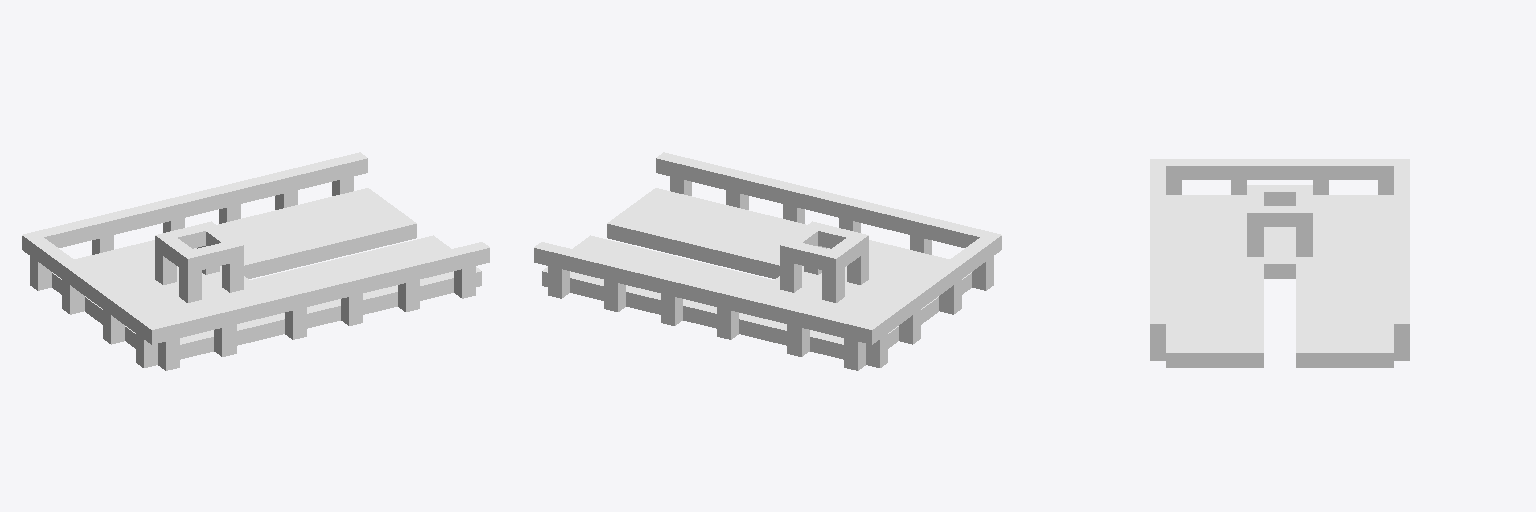
Rendered from roadEnd2.obj.
The picture shows the model from 3 angles: view 1: azimuth 30°, elevation 25°; view 2: azimuth 150°, elevation 25°; view 3: azimuth 270°, elevation 25°; orthographic projection.
Visible parts, largest first — view 1: object 1; view 2: object 1; view 3: object 1.
Part boxes in pixels (x1,y1,x2,y2): object 1: (22,152,489,370); object 1: (534,152,1001,370); object 1: (1150,159,1409,367).
Bounding box in the file's own units: 2.4 × 0.4 × 1.6.